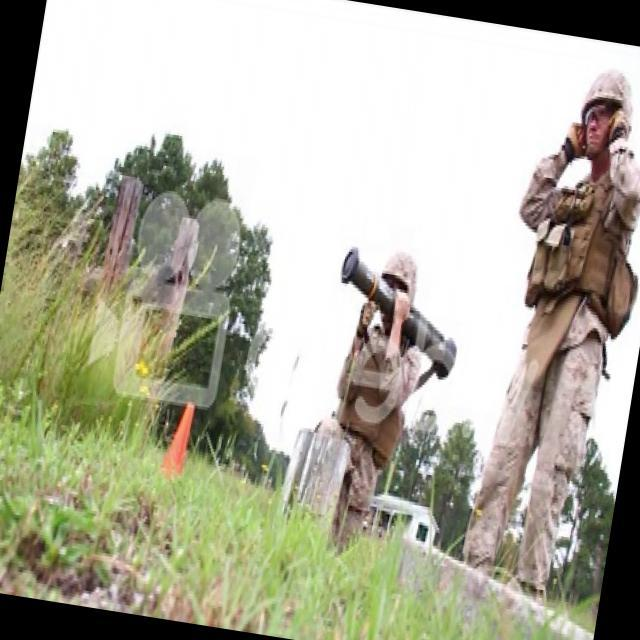rocket: (324, 240, 472, 392)
